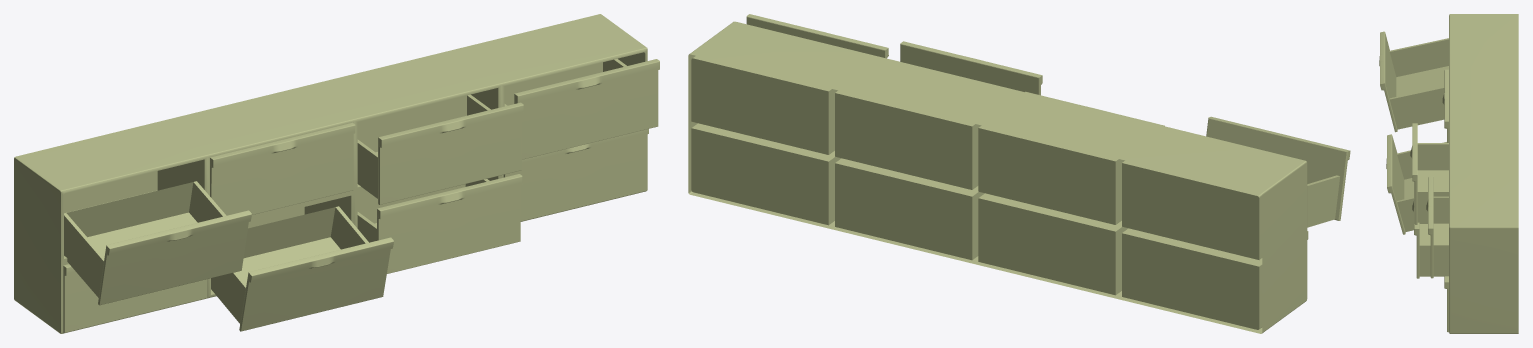
Rendered from overhead_shelf_final_C.fbx.
3 views of the same model, side by side, from view 1: azimuth 30°, elevation 25°; view 2: azimuth 150°, elevation 25°; view 3: azimuth 270°, elevation 25° (orthographic). The views are drawn at different scales.
Visible parts, largest first — view 1: polySurface1108; view 2: polySurface1108; view 3: polySurface1108.
Part boxes in pixels (left/top/right/bottom): polySurface1108: left=14, top=14, right=659, bottom=333; polySurface1108: left=688, top=14, right=1350, bottom=333; polySurface1108: left=1379, top=14, right=1518, bottom=333.
Bounding box in the file's own units: 1.7 × 0.4266 × 0.4684.
